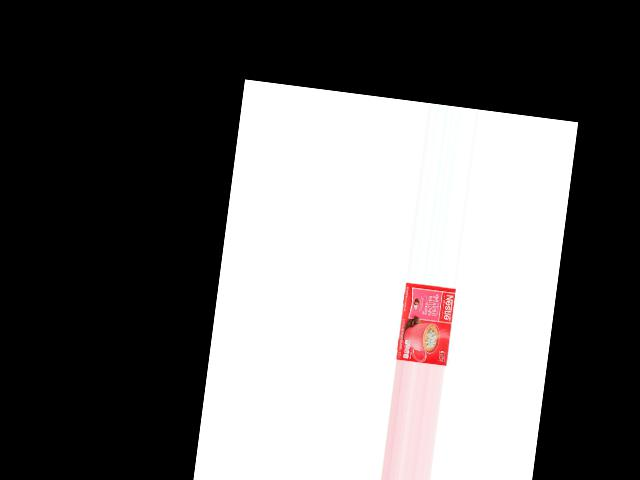chocolate: (392, 284, 454, 366)
